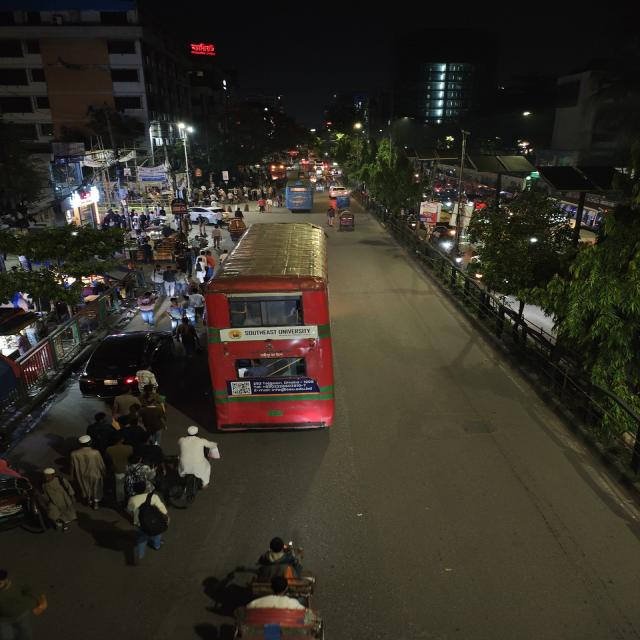bus: (206, 218, 342, 438), (282, 179, 314, 213)
car: (75, 327, 175, 397), (328, 186, 351, 199)
pedestrian: (0, 564, 57, 640), (116, 482, 165, 569), (173, 424, 220, 508), (33, 466, 83, 536), (67, 434, 109, 512), (106, 434, 135, 500), (130, 366, 162, 404), (110, 389, 142, 424), (131, 291, 160, 325), (324, 206, 339, 228), (256, 200, 267, 212)
rickshaw: (336, 210, 357, 232), (225, 217, 246, 236)
